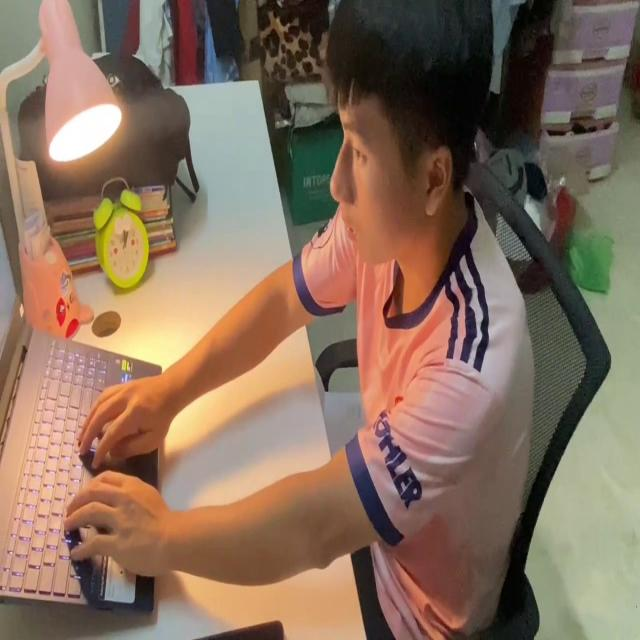book: (309, 363, 373, 452)
laptop: (0, 202, 162, 616)
phone: (193, 618, 287, 640)
student: (69, 0, 536, 640)
